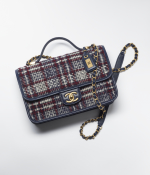channel: (20, 48, 122, 125), (91, 69, 103, 113), (66, 89, 81, 103)
